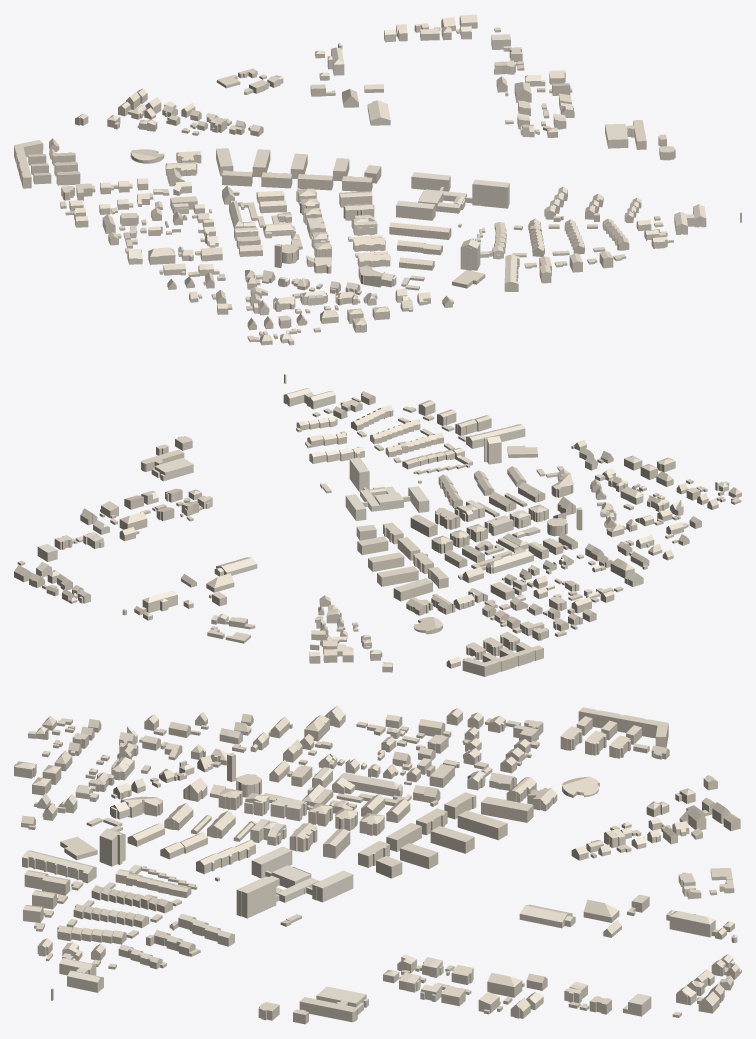
3 renders of one model, top to bottom at view 1: azimuth 30°, elevation 25°; view 2: azimuth 150°, elevation 25°; view 3: azimuth 270°, elevation 25°, orthographic. The views are drawn at different scales.
Size of the model in its own units: 628 by 36.41 by 627.
